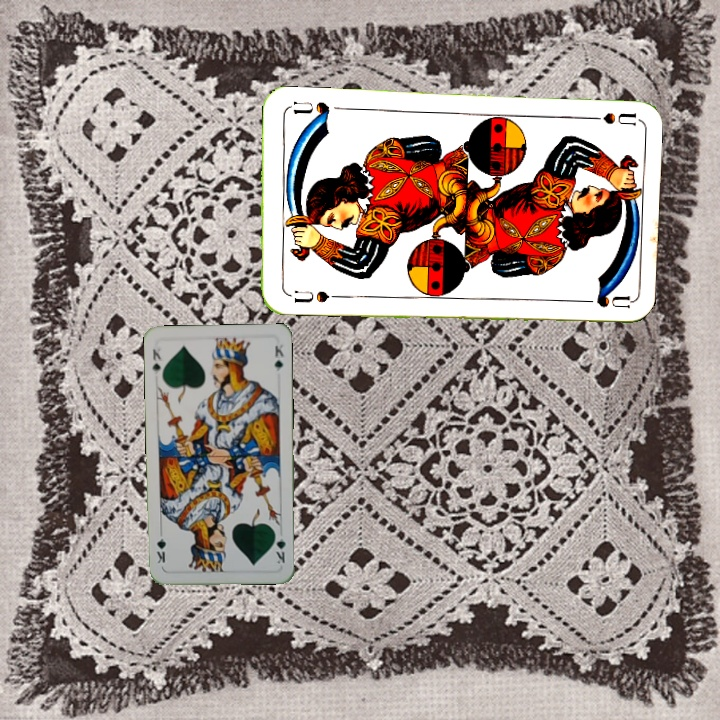GK: (271, 527, 288, 566), (148, 341, 163, 377)
SU: (282, 286, 341, 306), (577, 108, 636, 128)
